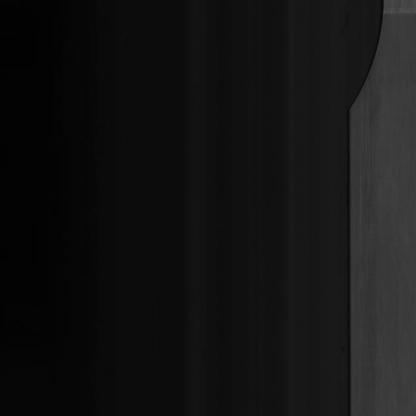crescent_gap: (338, 0, 388, 122)
welding_line: (373, 6, 415, 24)
